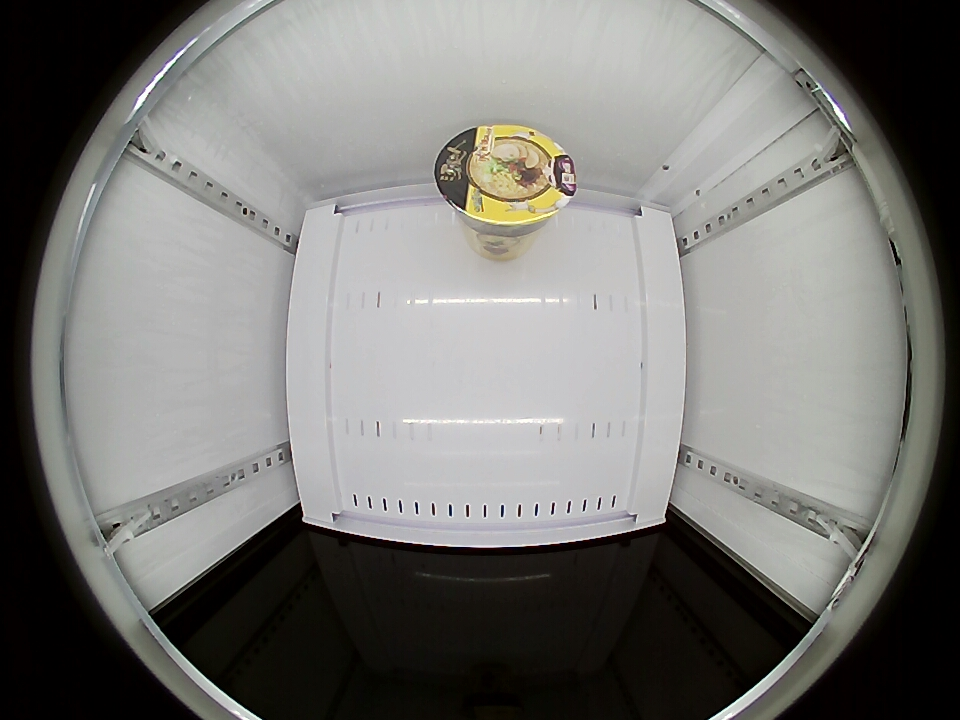tangdaren2: (434, 124, 577, 237)
